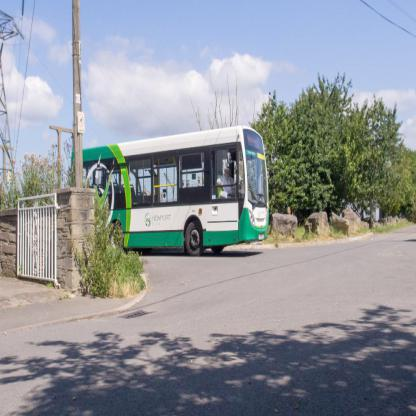Bus: (70, 125, 269, 259)
